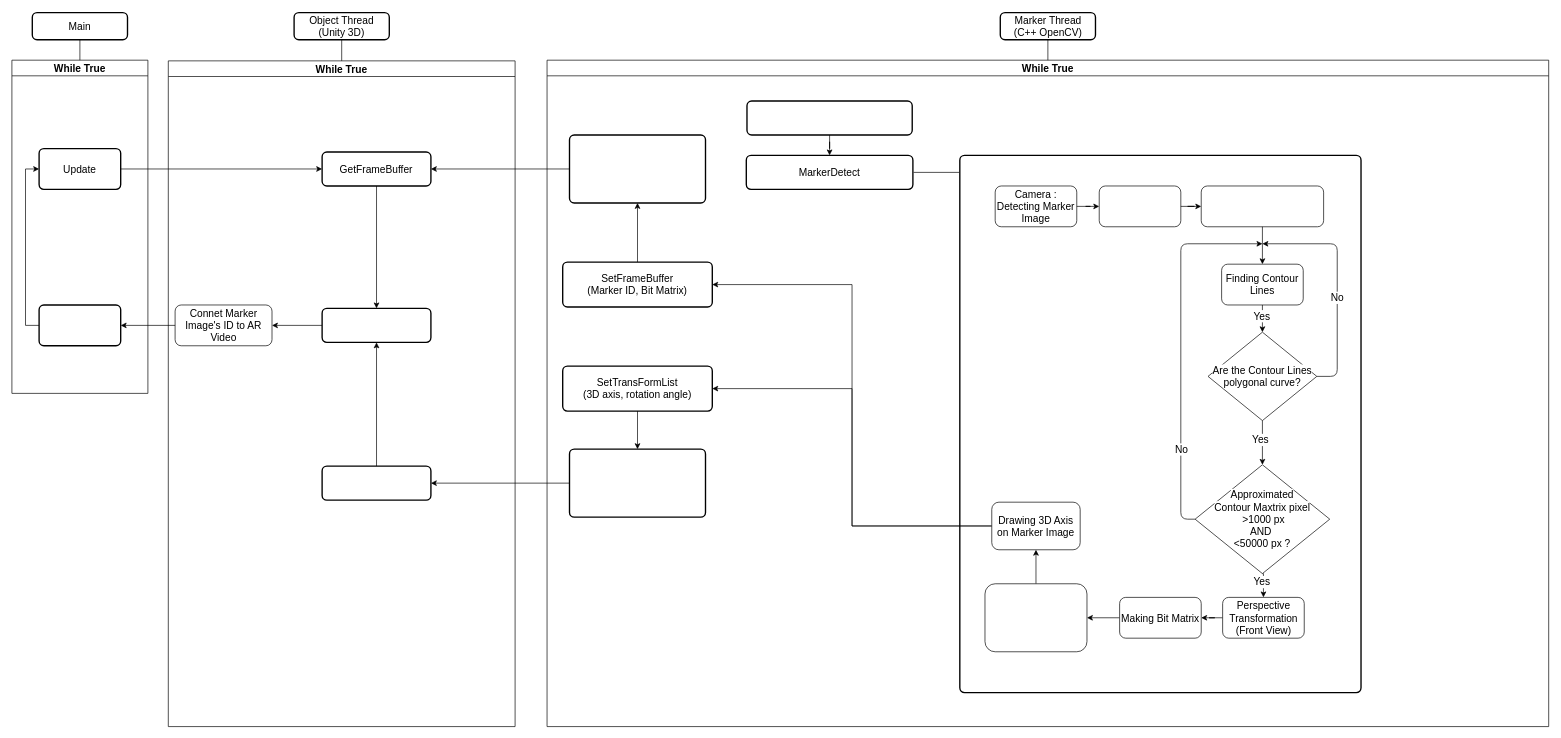
Some shapes in this 1561 by 738 pixel diagram are drawn without their labels. The shapes that lost their labels are listed below. From the top down, each one's centre as x and y in pixels, then its label:
At (829,117): "InputVideo".
At (637,168): "Buffer MatrixInfo".
At (1140,206): "Convert Color Scale to Gray Scale".
At (1262,206): "AdaptiveThreshold and Gaussian Blur Processing".
At (79,325): "Render".
At (376,325): "CreateObject".
At (376,482): "GetTransformList".
At (637,482): "Buffer TransformList".
At (1035,617): "Finding Edge point, Calculating Rotation angle, Detecting ID number".
